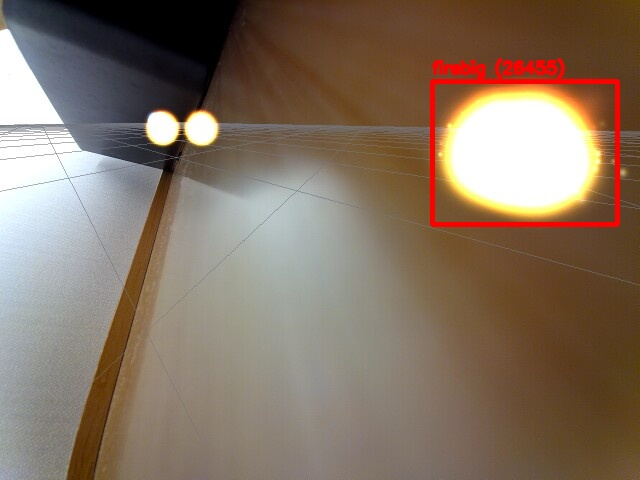firebig: (432, 81, 617, 224)
